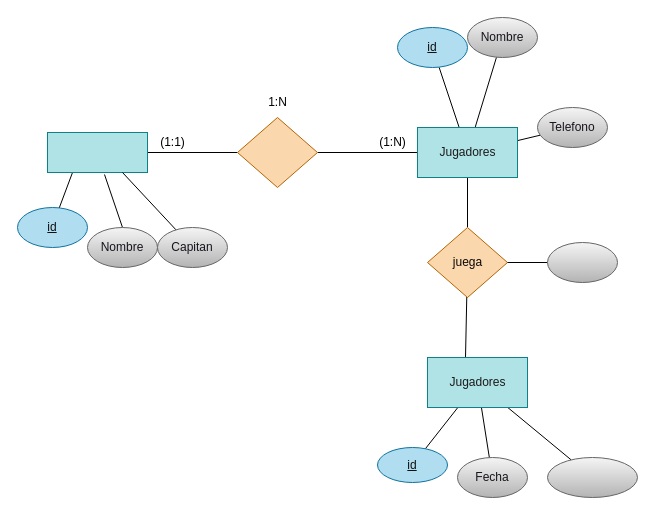
Image size: 655x515. Some labels were removed from this diagram. The shapes that lost their labels are listed below. From the top down, each one's centre as x and y in pixels, then its label:
pixel 97 152: Equipos
pixel 277 152: pertenece
pixel 582 262: Posicion
pixel 592 477: Campeonato
